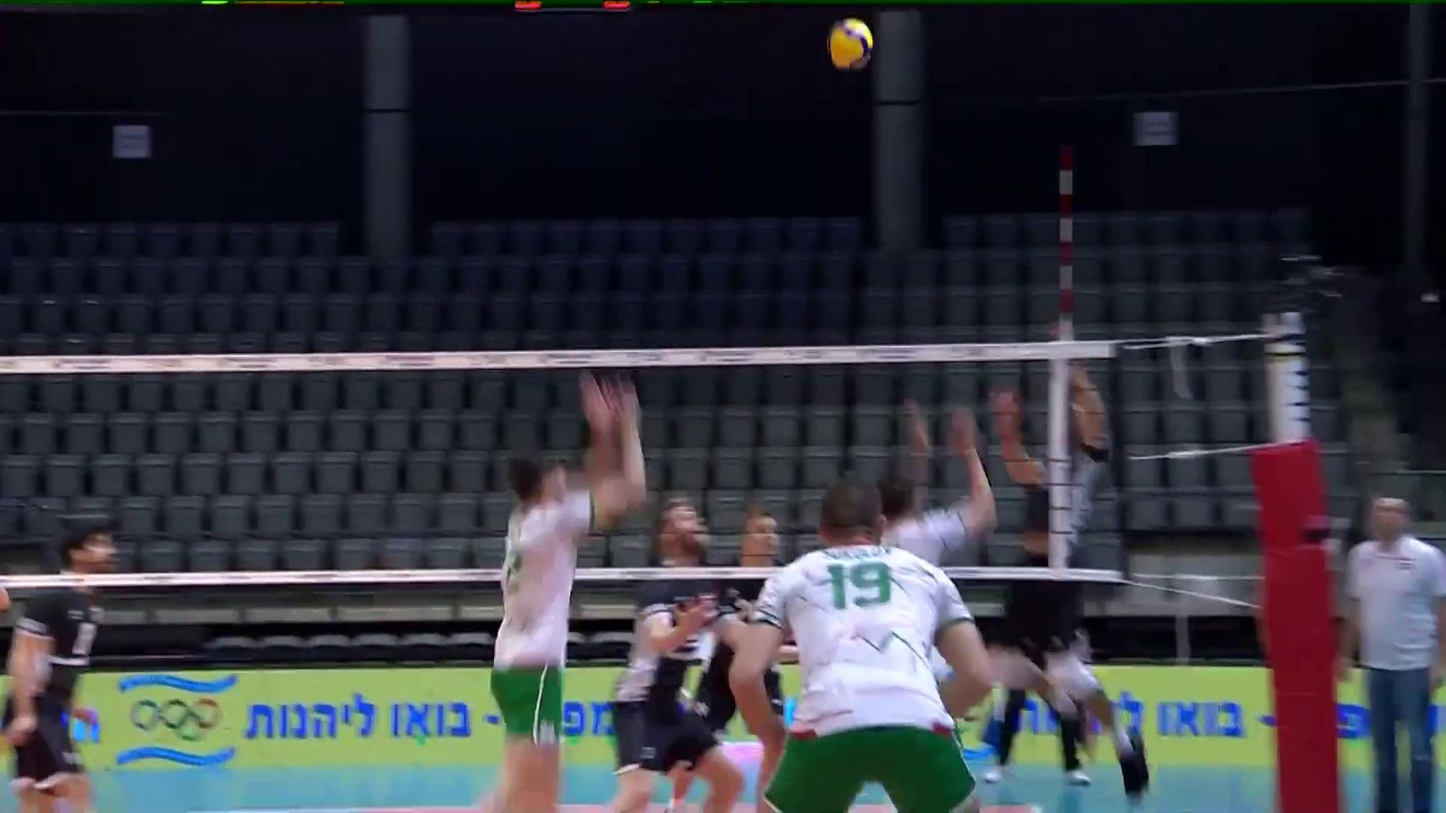ball: (827, 19, 876, 76)
